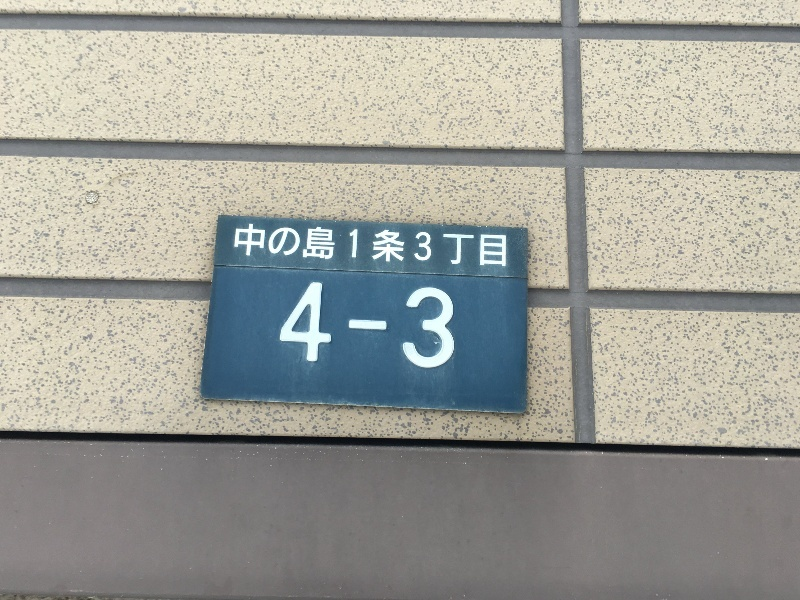text: (289, 282, 304, 369), (305, 282, 320, 369), (321, 282, 336, 369), (337, 282, 352, 369), (353, 282, 368, 369), (369, 282, 384, 369), (385, 282, 400, 369), (401, 282, 416, 369), (417, 282, 432, 369), (433, 282, 448, 369), (241, 224, 256, 267), (257, 224, 272, 267), (273, 224, 288, 267), (289, 224, 304, 267), (305, 224, 320, 267), (321, 224, 336, 267), (337, 224, 352, 267), (353, 224, 368, 267), (369, 224, 384, 267), (385, 224, 400, 267), (401, 224, 416, 267), (417, 224, 432, 267), (433, 224, 448, 267), (449, 224, 464, 267), (465, 224, 480, 267), (481, 224, 496, 267), (449, 282, 455, 369), (497, 224, 506, 267), (236, 224, 240, 267), (287, 282, 288, 369)
